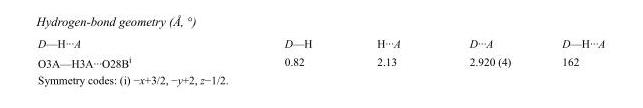table: (37, 36, 604, 69)
table column: (37, 36, 207, 69), (207, 36, 343, 69), (434, 36, 535, 69), (343, 36, 434, 69), (535, 36, 604, 69)
table row: (37, 51, 604, 69), (37, 36, 604, 51)
